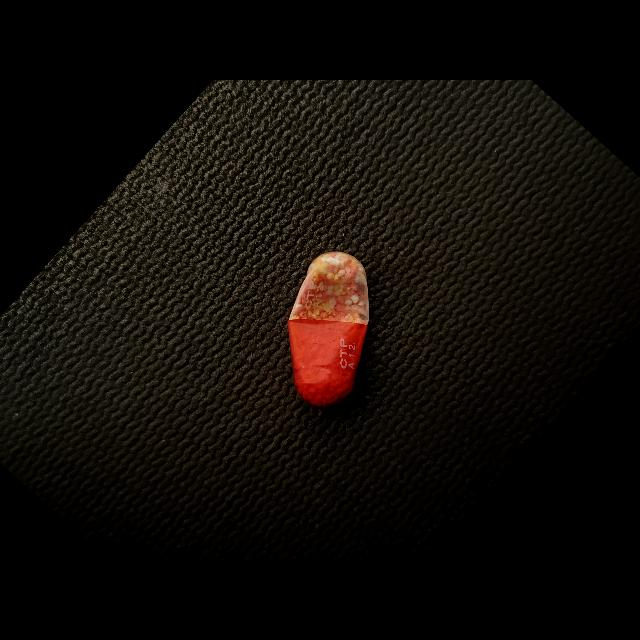Defective Capsule: (288, 252, 369, 407)
